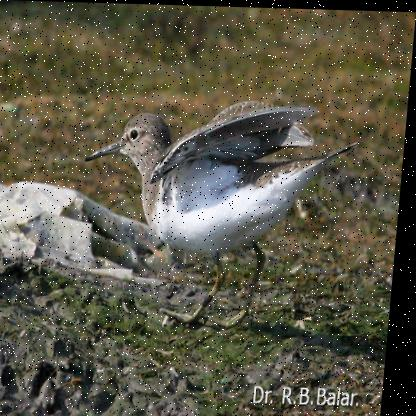Burung: (76, 93, 364, 319)
